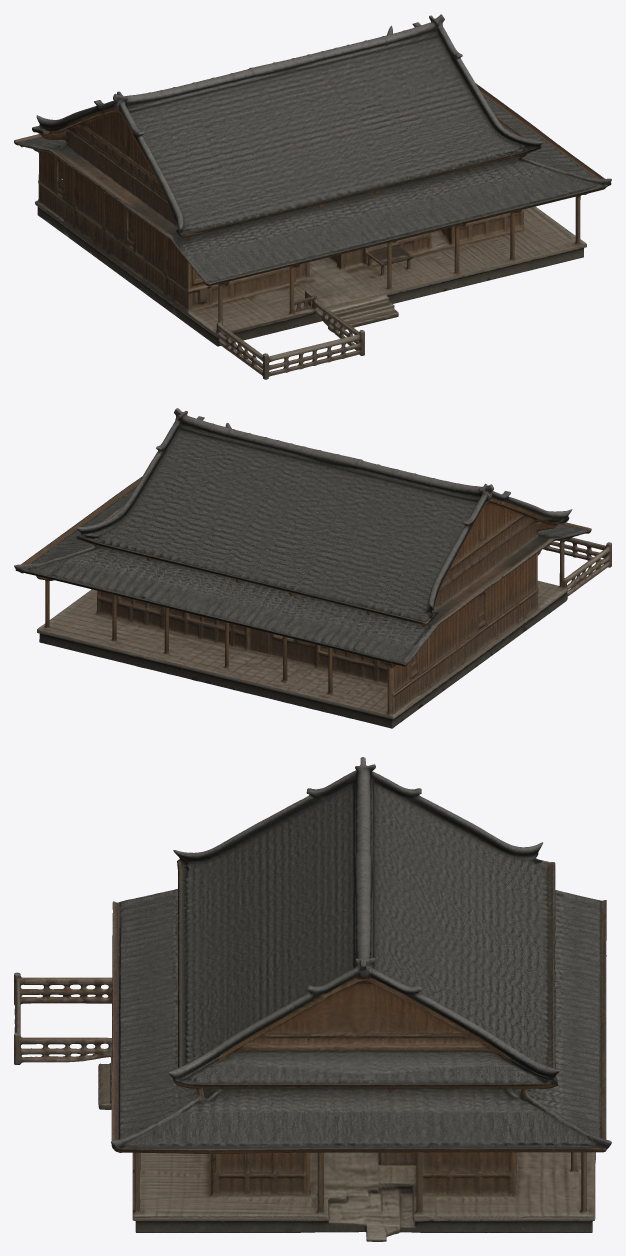
File: village_house4.glb
3 renders of one model, top to bottom at view 1: azimuth 30°, elevation 25°; view 2: azimuth 150°, elevation 25°; view 3: azimuth 270°, elevation 25°, orthographic. The views are drawn at different scales.
Parts seen in each view (by area): view 1: mesh_node; view 2: mesh_node; view 3: mesh_node.
Part boxes in pixels (box(x1,y1,x2,y2)): mesh_node: box(14, 14, 611, 379); mesh_node: box(14, 408, 611, 728); mesh_node: box(14, 757, 611, 1241).
Size of the model in its own units: 1.9 by 0.8471 by 1.9.
1 material, 1 textured.
